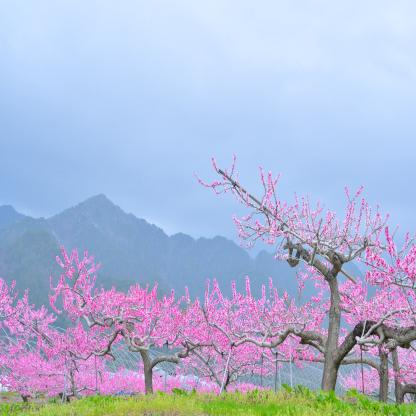Momo: (190, 127, 416, 402), (47, 238, 222, 396), (0, 277, 118, 394)
